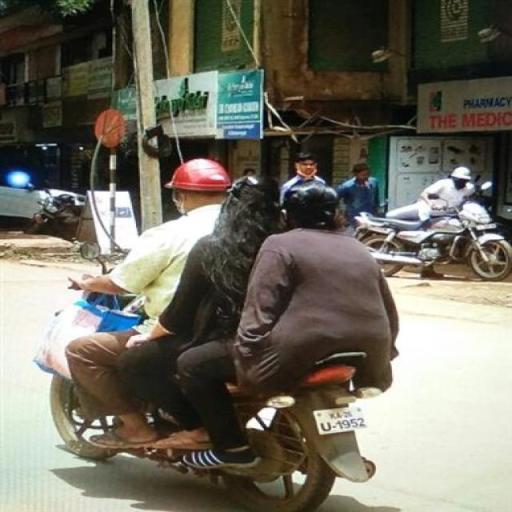tripple riding: (102, 151, 406, 365)
